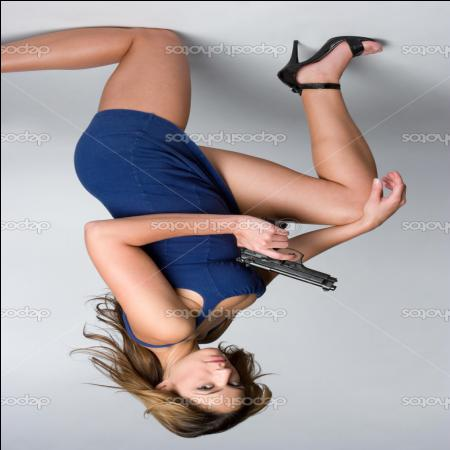Pistol: (236, 212, 348, 294)
